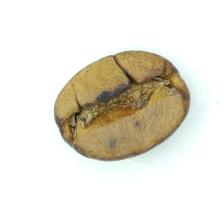NG: (66, 70, 177, 143)
